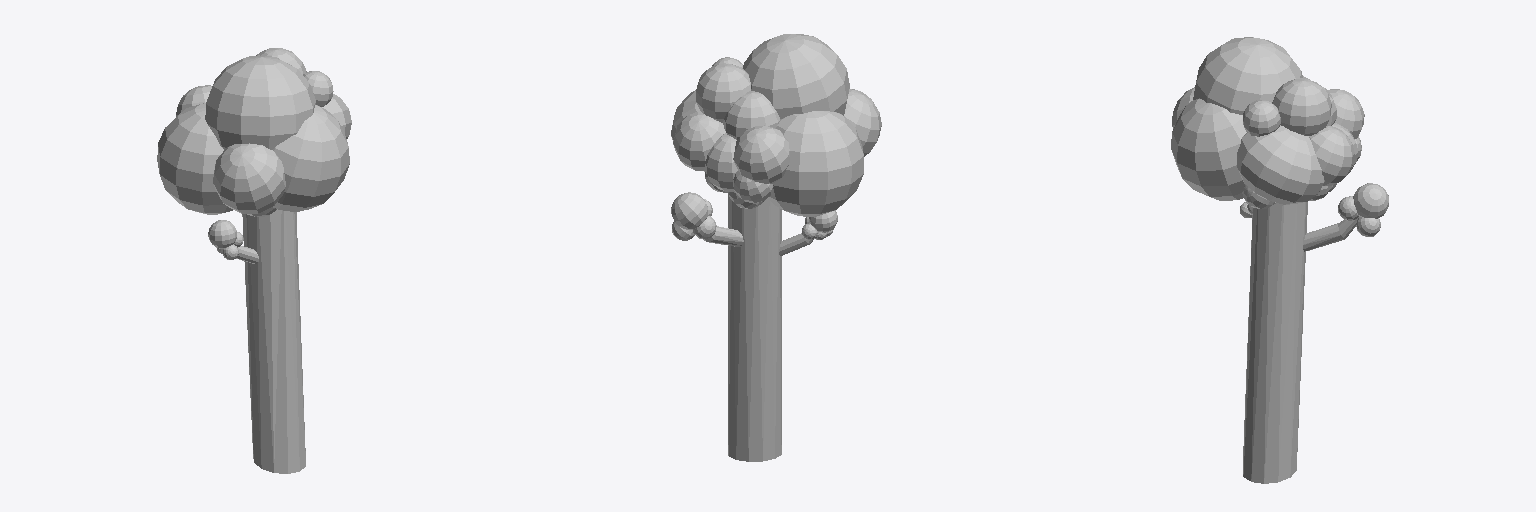
Rendered from cherry_blossom.obj.
The picture shows the model from 3 angles: view 1: azimuth 30°, elevation 25°; view 2: azimuth 150°, elevation 25°; view 3: azimuth 270°, elevation 25°; orthographic projection.
Visible parts, largest first — view 1: group[number redacted], group[number redacted], group[number redacted], group[number redacted], group[number redacted], group[number redacted], group[number redacted], group[number redacted], group[number redacted]; view 2: group[number redacted], group[number redacted], group[number redacted], group[number redacted], group[number redacted], group[number redacted], group[number redacted], group[number redacted], group[number redacted], group[number redacted], group[number redacted]; view 3: group[number redacted], group[number redacted], group[number redacted], group[number redacted], group[number redacted], group[number redacted], group[number redacted], group[number redacted], group[number redacted], group[number redacted].
Part boxes in pixels (left/top/right/bottom): group[number redacted]: left=242, top=209, right=305, bottom=473; group[number redacted]: left=205, top=55, right=315, bottom=149; group[number redacted]: left=273, top=105, right=349, bottom=211; group[number redacted]: left=157, top=103, right=232, bottom=214; group[number redacted]: left=213, top=143, right=285, bottom=213; group[number redacted]: left=303, top=71, right=333, bottom=106; group[number redacted]: left=208, top=220, right=236, bottom=248; group[number redacted]: left=322, top=94, right=351, bottom=138; group[number redacted]: left=176, top=85, right=211, bottom=116; group[number redacted]: left=728, top=192, right=781, bottom=461; group[number redacted]: left=768, top=111, right=863, bottom=216; group[number redacted]: left=743, top=34, right=849, bottom=118; group[number redacted]: left=733, top=125, right=789, bottom=183; group[number redacted]: left=696, top=63, right=750, bottom=122; group[number redacted]: left=673, top=111, right=725, bottom=170; group[number redacted]: left=723, top=91, right=780, bottom=139; group[number redacted]: left=844, top=89, right=881, bottom=156; group[number redacted]: left=704, top=133, right=737, bottom=192; group[number redacted]: left=671, top=192, right=707, bottom=229; group[number redacted]: left=733, top=171, right=773, bottom=202; group[number redacted]: left=1243, top=202, right=1307, bottom=483; group[number redacted]: left=1171, top=98, right=1246, bottom=200; group[number redacted]: left=1193, top=37, right=1302, bottom=114; group[number redacted]: left=1237, top=125, right=1324, bottom=204; group[number redacted]: left=1272, top=78, right=1331, bottom=135; group[number redacted]: left=1309, top=126, right=1354, bottom=185; group[number redacted]: left=1243, top=100, right=1280, bottom=136; group[number redacted]: left=1328, top=89, right=1364, bottom=138; group[number redacted]: left=1353, top=183, right=1388, bottom=218; group[number redacted]: left=1303, top=217, right=1358, bottom=251.
Size of the model in its own units: 1.48 by 3.28 by 1.56.